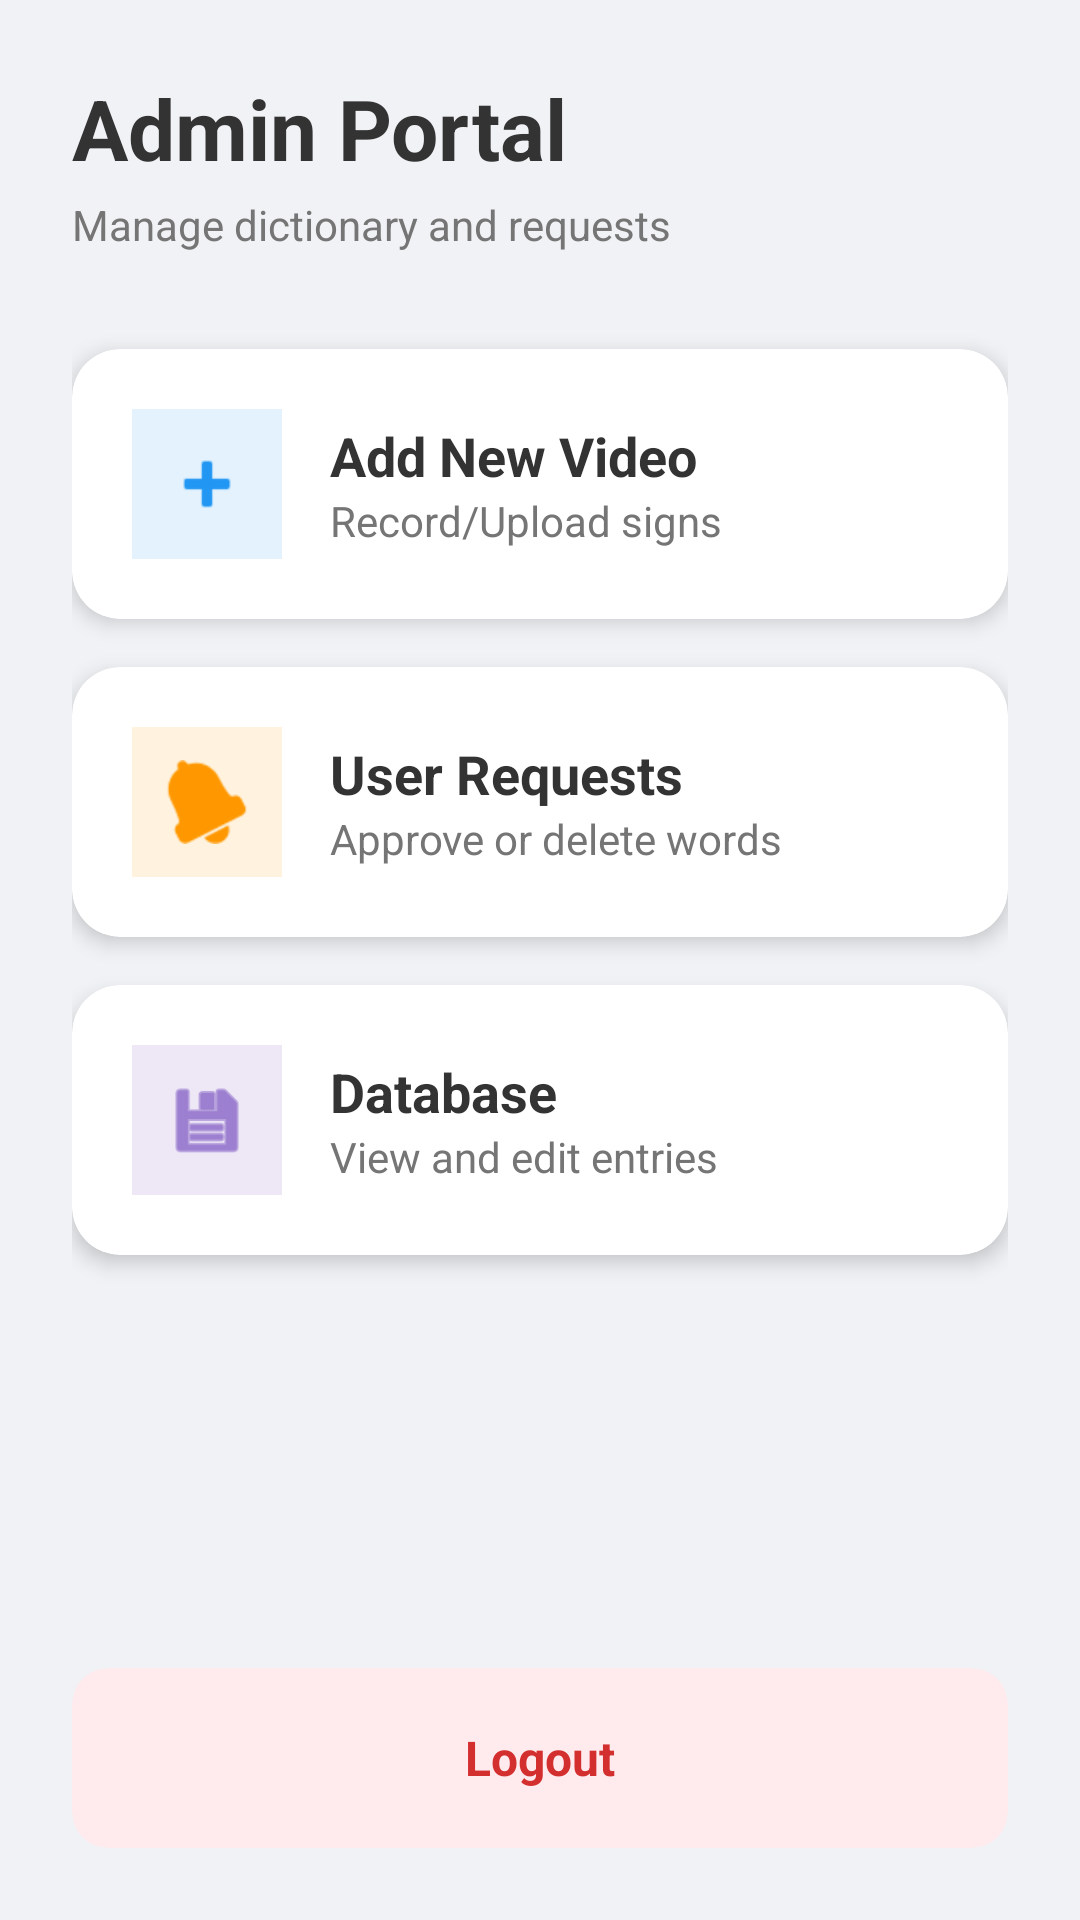

Point at icon controls on the screen. Image size 1080*1920, points as (x,y).
popup reminder: (207,802)
save: (207,1120)
